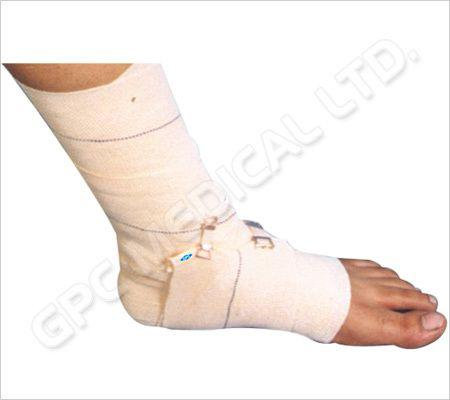bandage: (15, 63, 351, 345)
